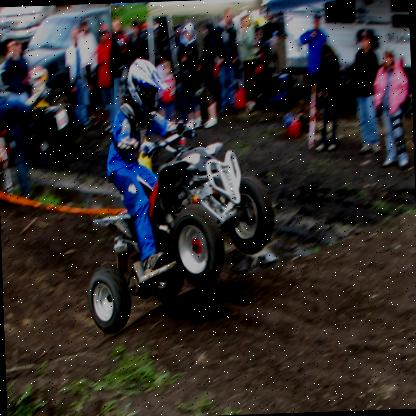Car: (0, 3, 116, 110), (0, 5, 56, 48)
